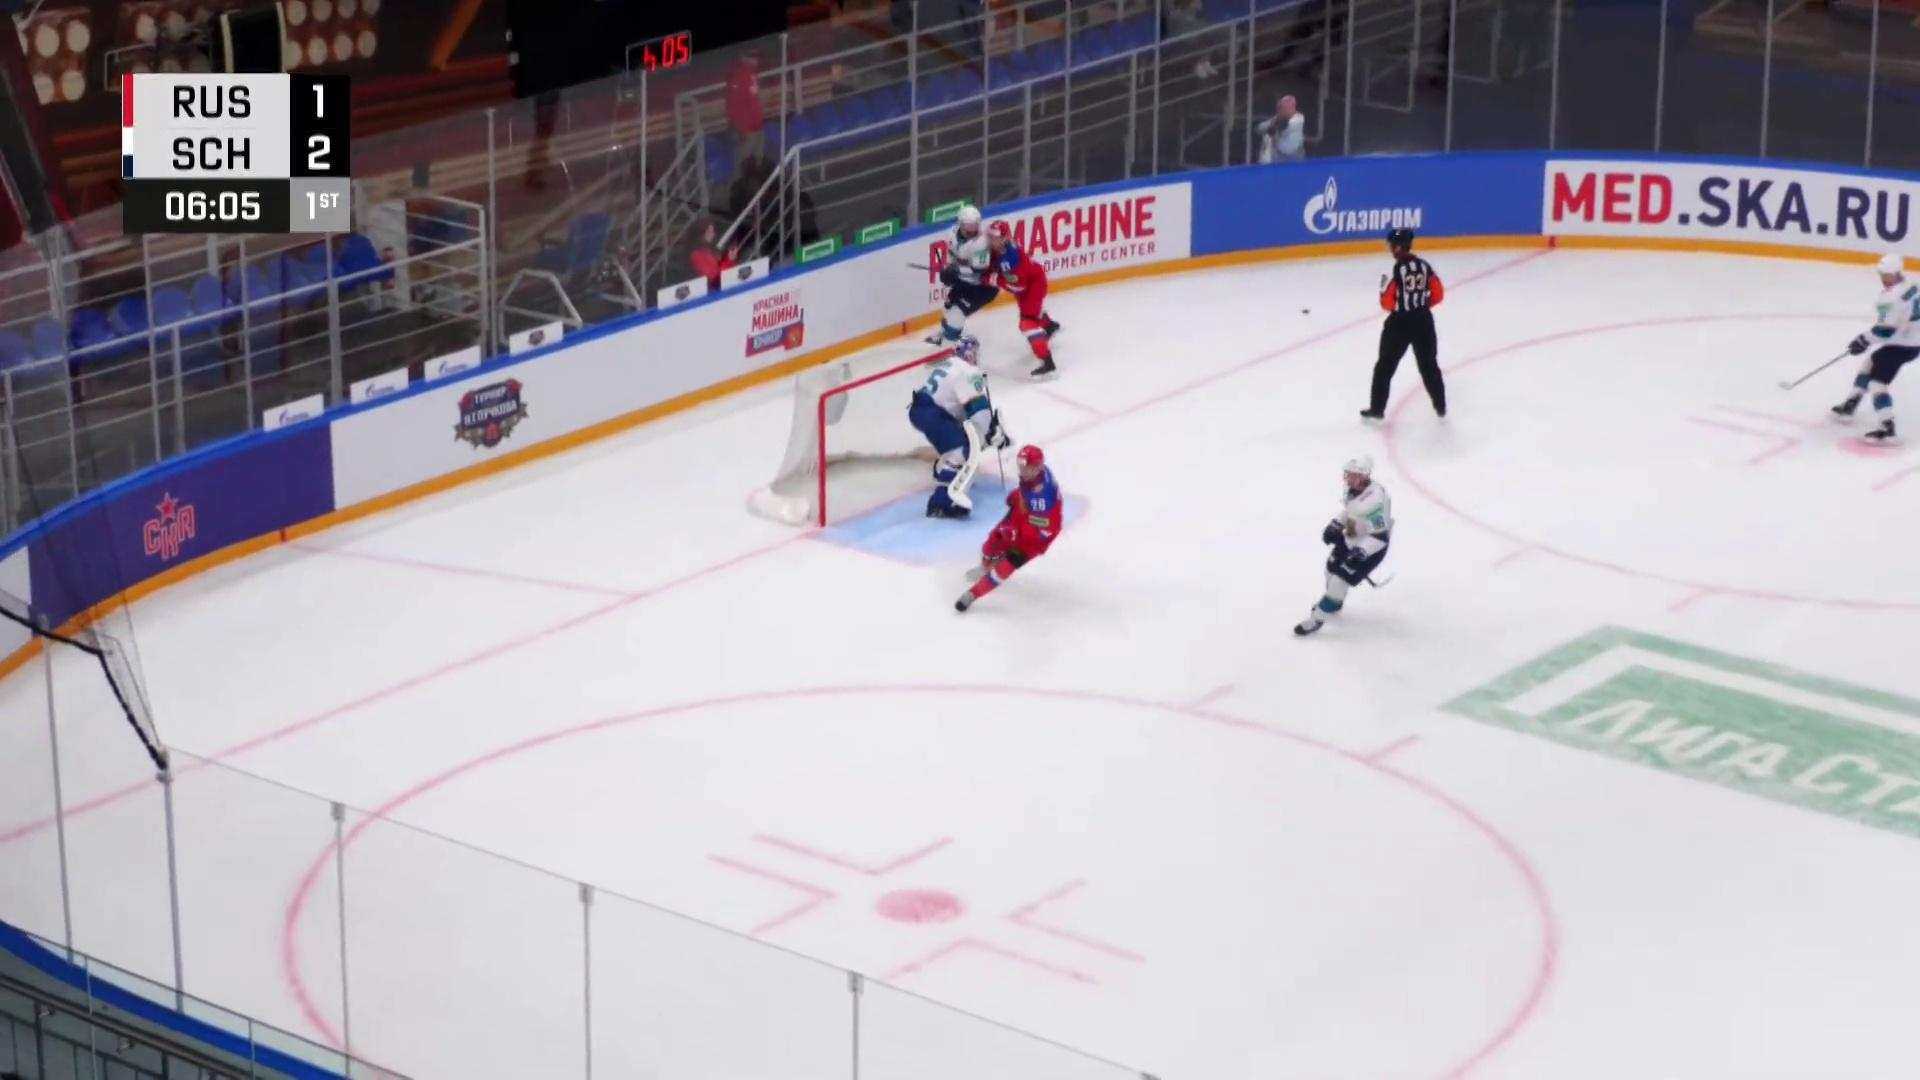ball: (1300, 307, 1311, 315)
